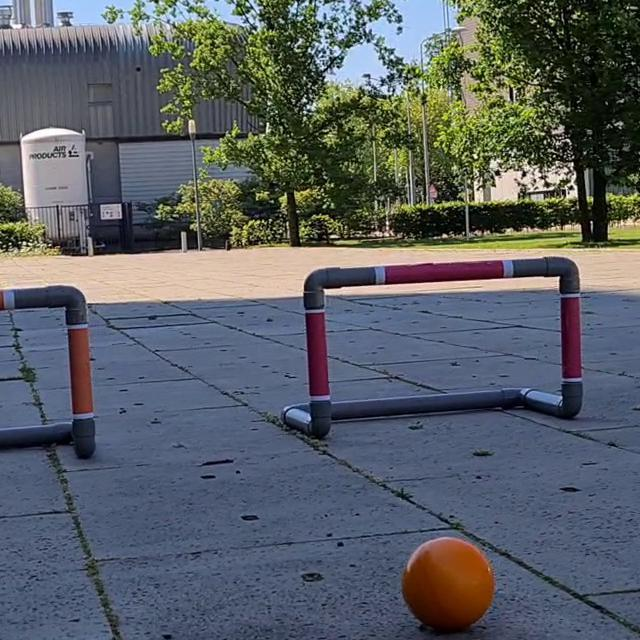ball: (398, 536, 498, 632)
